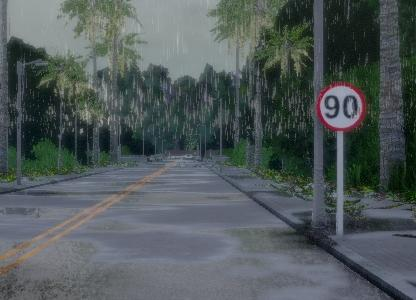Speed_90: (316, 81, 367, 134)
